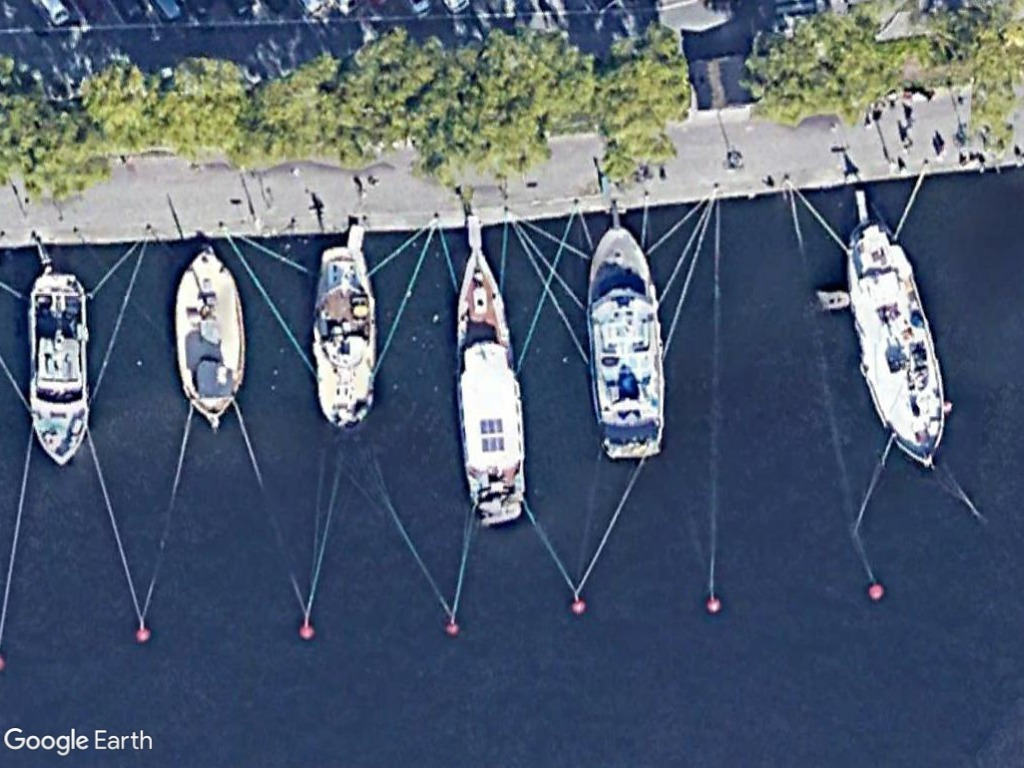boat: (841, 203, 956, 474), (440, 245, 536, 533), (570, 222, 671, 464), (15, 267, 101, 477), (160, 240, 253, 434), (304, 243, 387, 432)
